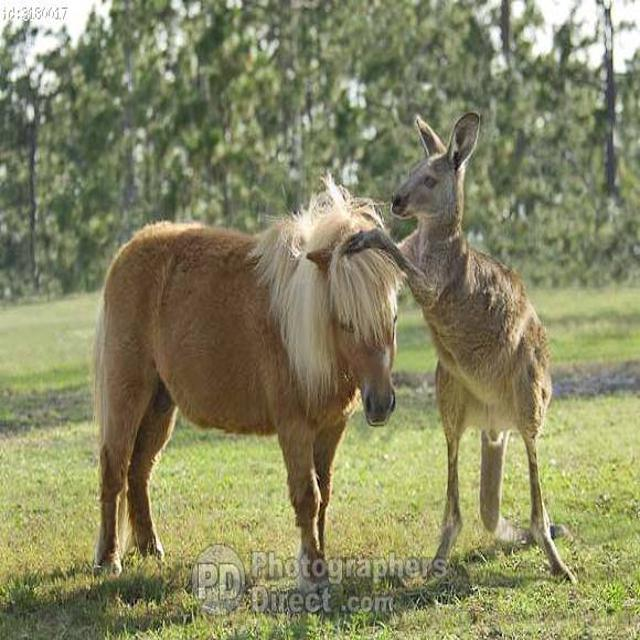kangaroo: (396, 108, 560, 570)
